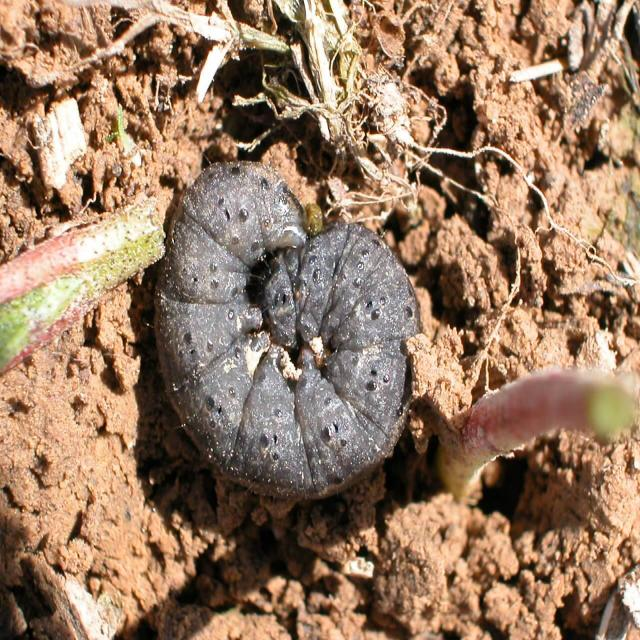cutworm: (143, 149, 429, 519)
